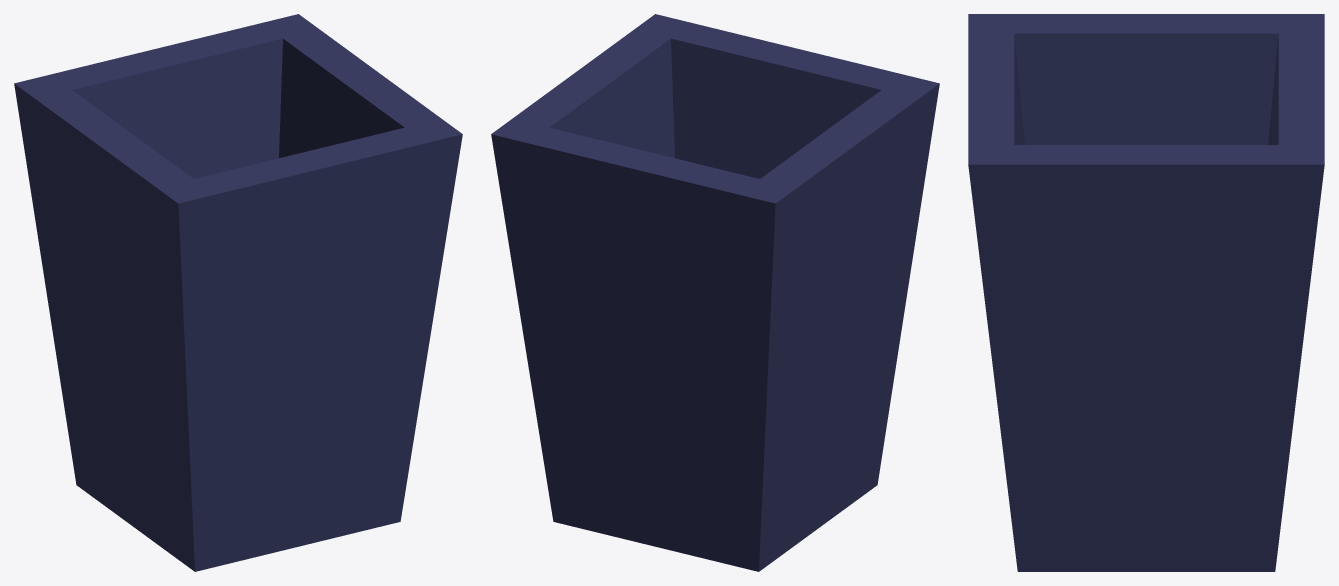
The model's file is Trash.fbx.
The picture shows the model from 3 angles, left to right: view 1: azimuth 30°, elevation 25°; view 2: azimuth 150°, elevation 25°; view 3: azimuth 270°, elevation 25°; orthographic projection. The views are drawn at different scales.
Parts seen in each view (by area): view 1: Trash; view 2: Trash; view 3: Trash.
Part boxes in pixels (left/top/right/bottom): Trash: left=14, top=14, right=462, bottom=571; Trash: left=491, top=14, right=939, bottom=571; Trash: left=968, top=14, right=1324, bottom=571.
Size of the model in its own units: 74.97 by 74.97 by 99.38.
